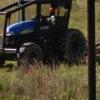Tractor: (8, 6, 85, 66)
